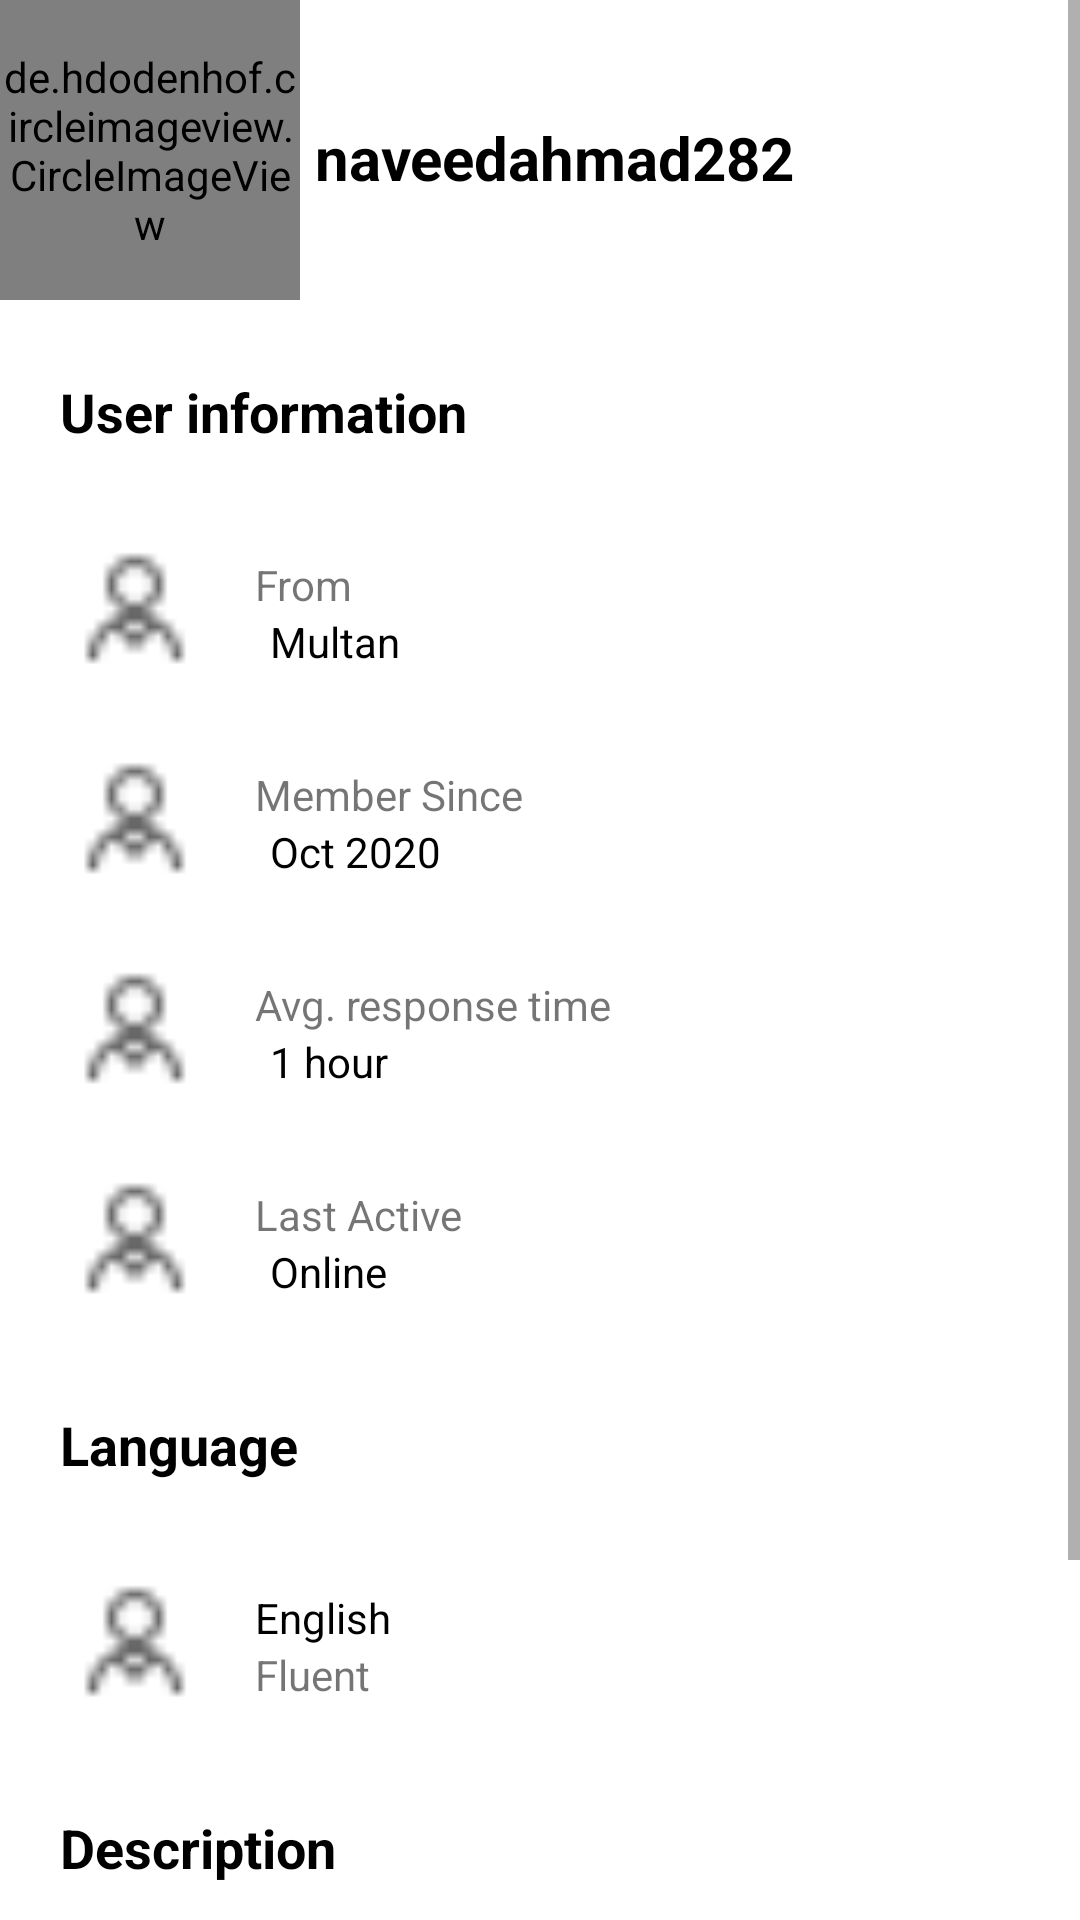

Icon bounding boxes for this 1080 × 1920 phone screenshot, format BBox(x1, y1, x2, y2):
profile: BBox(85, 554, 185, 663), BBox(85, 764, 185, 873), BBox(85, 974, 185, 1083), BBox(85, 1184, 185, 1293), BBox(85, 1587, 185, 1696)
